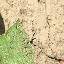Morning glory: (0, 12, 55, 64)
